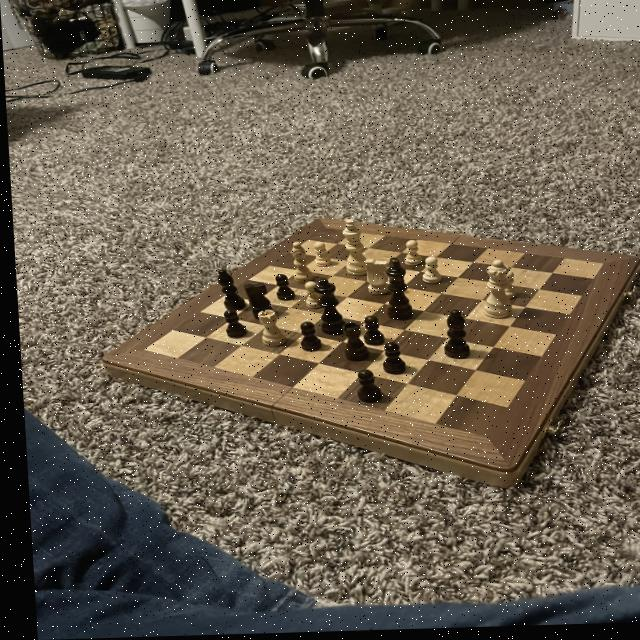black-bishop: (378, 256, 413, 325)
black-king: (237, 281, 275, 325)
black-knight: (349, 369, 381, 409), (375, 344, 405, 379), (218, 309, 246, 343), (293, 321, 320, 356), (270, 273, 294, 304), (358, 317, 382, 347)
black-pawn: (309, 277, 344, 339)
black-queen: (333, 319, 367, 368)
black-rook: (435, 309, 470, 364), (210, 266, 246, 316), (282, 240, 312, 288)
white-bishop: (332, 216, 372, 283)
white-king: (358, 256, 391, 299)
white-knight: (393, 240, 423, 271), (415, 256, 441, 287), (495, 269, 518, 303), (299, 280, 322, 312), (307, 241, 331, 271)
white-pawn: (473, 261, 513, 327)
white-queen: (249, 308, 286, 353)
